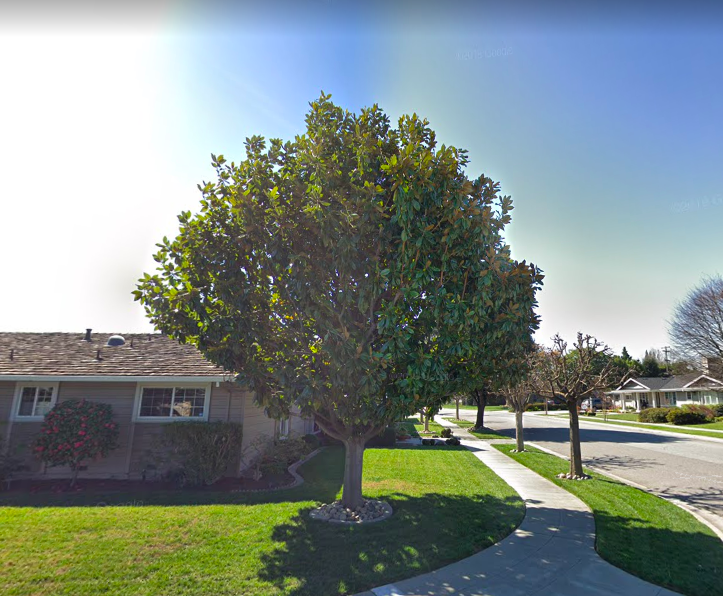tree: (131, 86, 547, 513)
